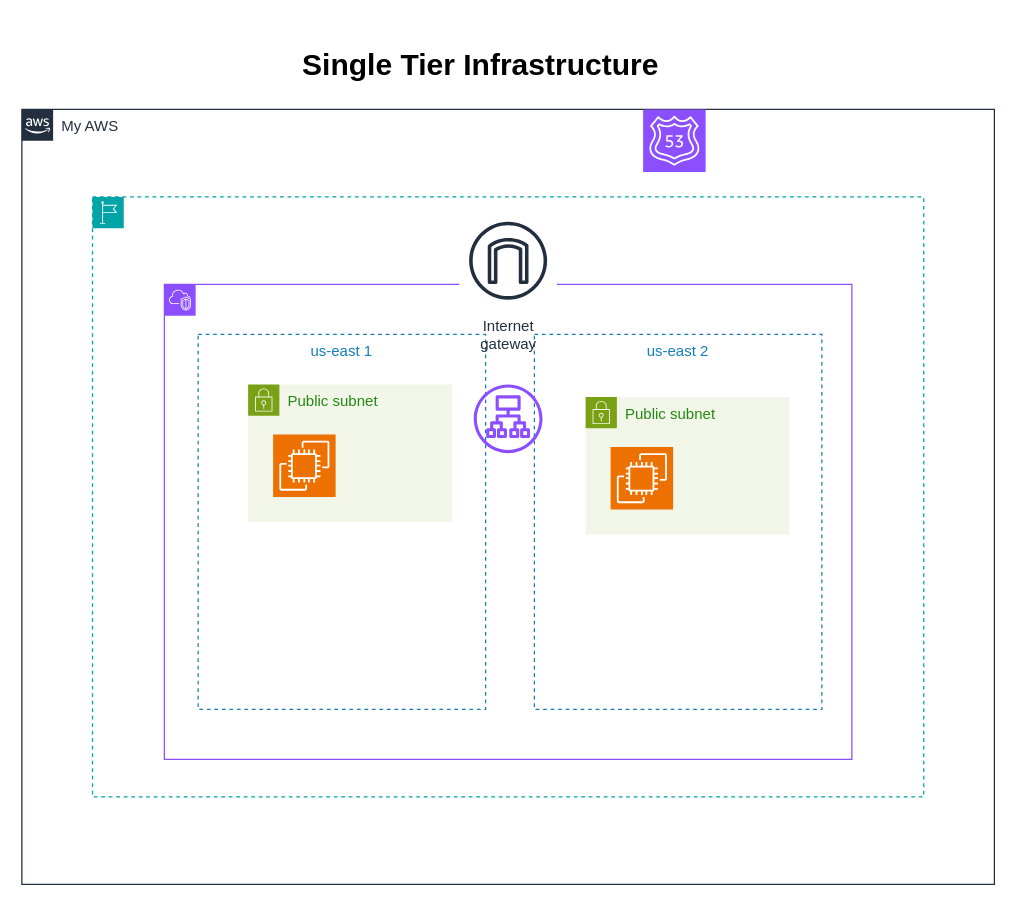
Some shapes in this 1016 by 916 pixel diagram are drawn without their labels. The shapes that lost their labels are listed below. From the top down, each one's box as (x1, y1, x2, y2) in pixels, then its label:
(91, 196, 924, 797): Region
(163, 283, 852, 759): VPC
